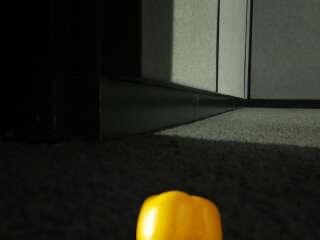Capsicum: (135, 189, 224, 240)
